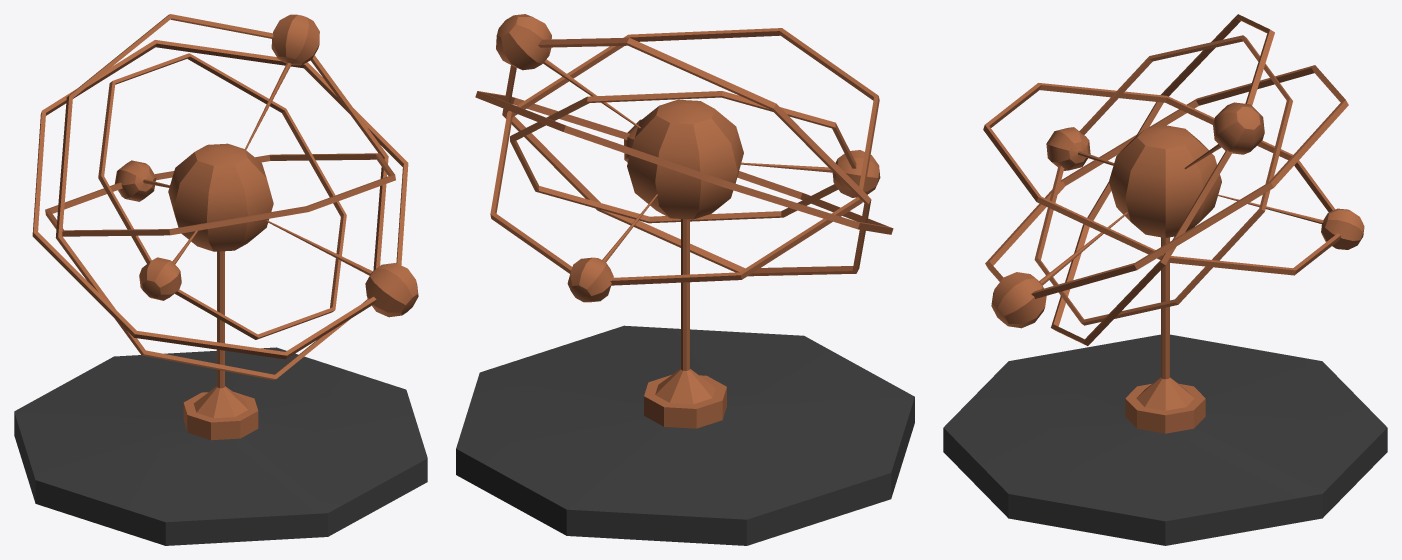
File: Statue.fbx
3 renders of one model, left to right at view 1: azimuth 30°, elevation 25°; view 2: azimuth 150°, elevation 25°; view 3: azimuth 270°, elevation 25°, orthographic. The views are drawn at different scales.
Visible parts, largest first — view 1: STATUE; view 2: STATUE; view 3: STATUE.
Boxes of the visible parts, bbox=[...] form: STATUE: bbox=[14, 14, 427, 545]; STATUE: bbox=[456, 14, 914, 545]; STATUE: bbox=[943, 14, 1387, 545].
Bounding box in the file's own units: 346 × 363 × 346.
